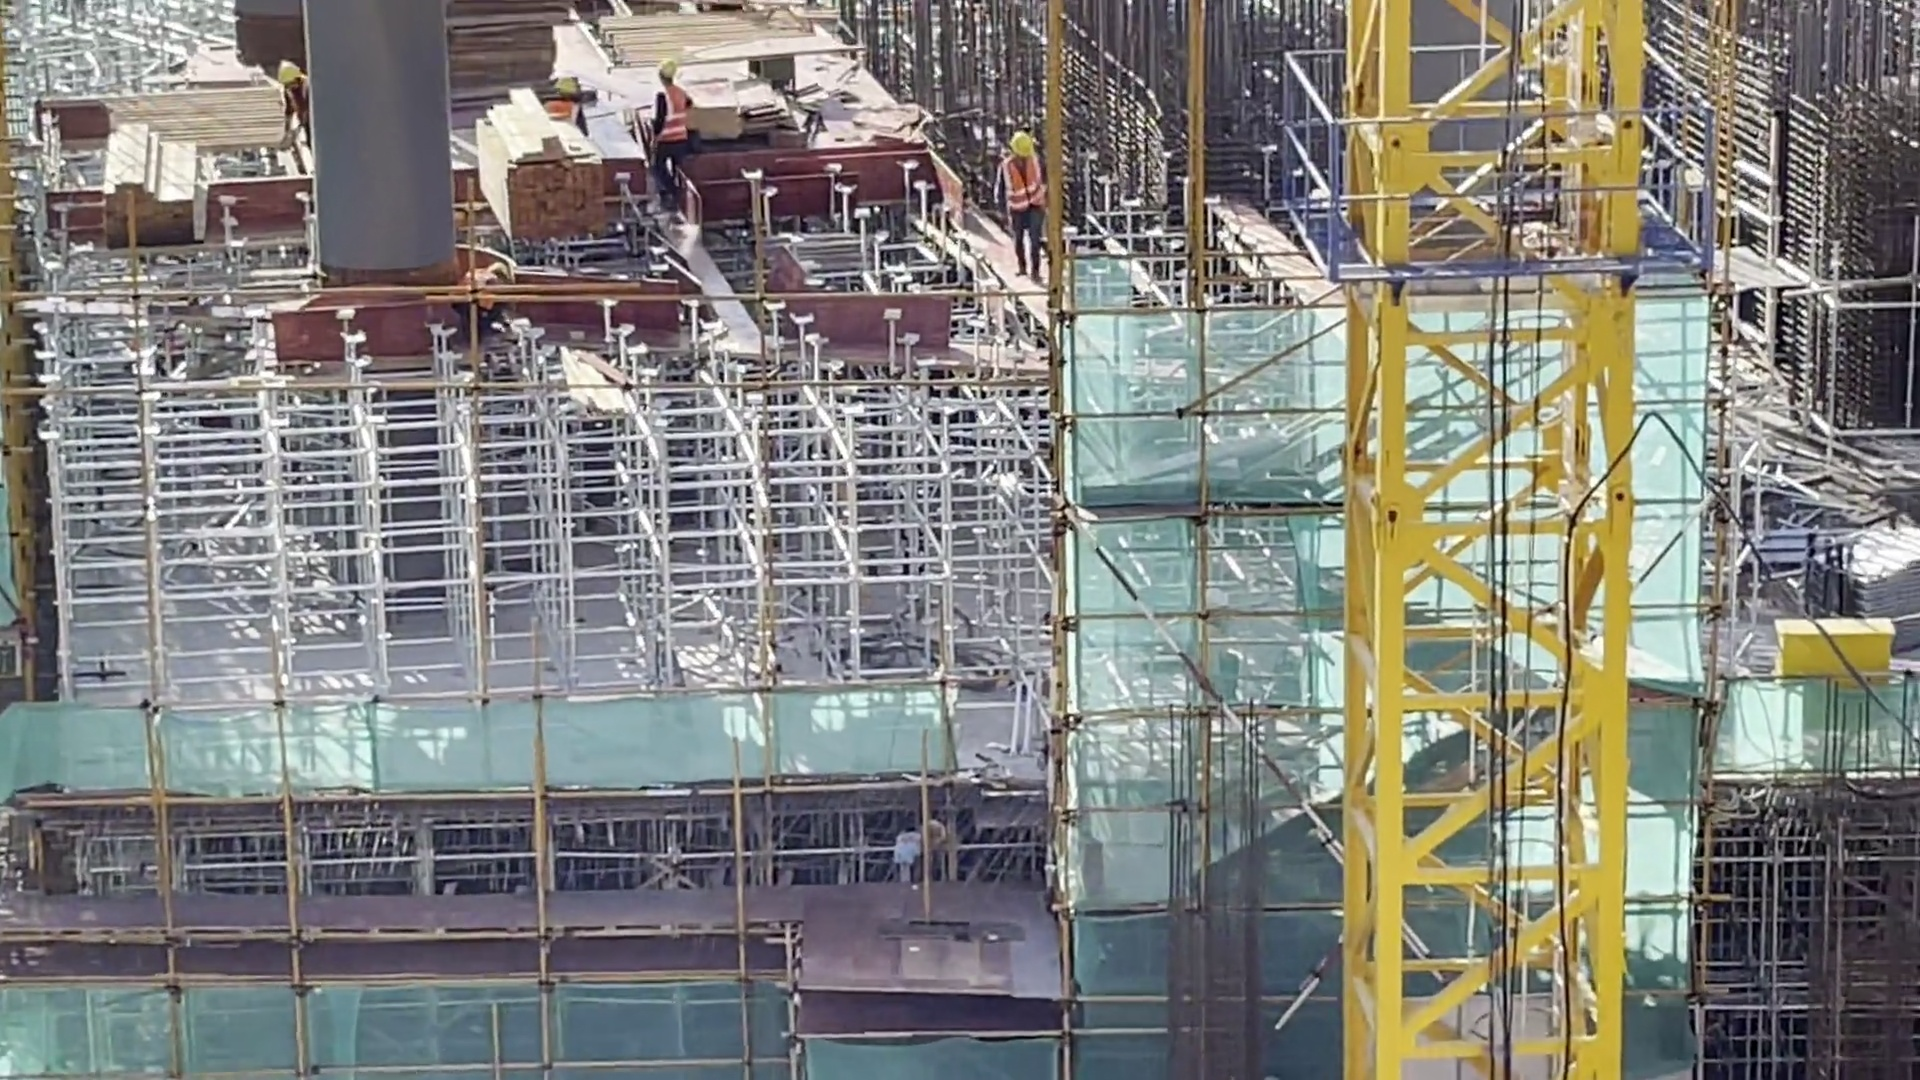board: (694, 79, 744, 141)
ebox: (1766, 612, 1892, 676)
helmet: (1008, 134, 1035, 157), (277, 60, 299, 85), (552, 76, 578, 95), (655, 59, 679, 78)
person: (989, 133, 1049, 286), (647, 58, 694, 213), (279, 56, 313, 154), (547, 73, 588, 126)
vest: (1001, 156, 1050, 207), (654, 87, 689, 144), (550, 99, 581, 122)
wood: (475, 86, 611, 236), (102, 121, 207, 243), (450, 1, 575, 79), (602, 13, 783, 66), (197, 87, 293, 153)
